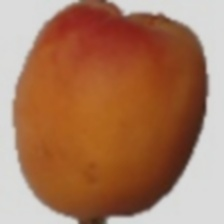apricot: (44, 25, 184, 183)
